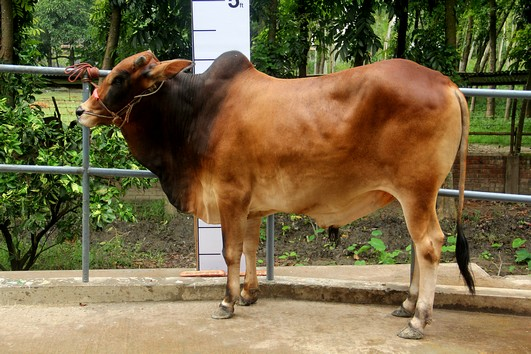cow: (75, 44, 481, 340)
